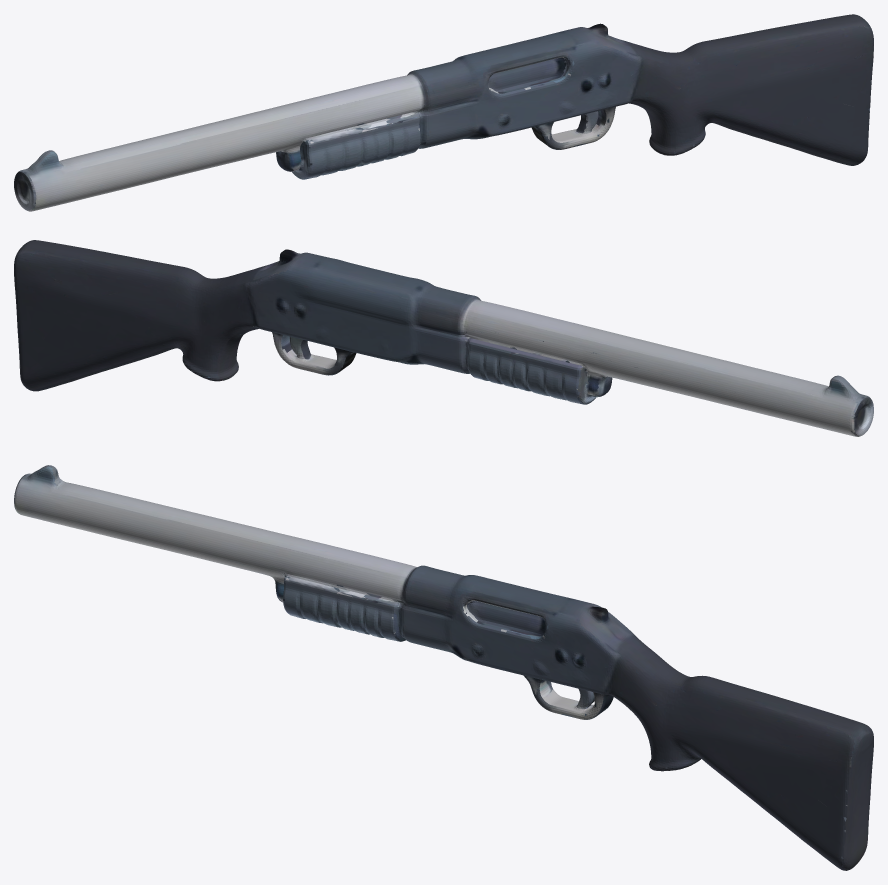
Rendered from shotgun.glb.
The picture shows the model from 3 angles, top to bottom: view 1: azimuth 30°, elevation 25°; view 2: azimuth 150°, elevation 25°; view 3: azimuth 330°, elevation 25°; orthographic projection.
Visible parts, largest first — view 1: figure; view 2: figure; view 3: figure.
Part boxes in pixels (bbox=[...]): figure: bbox=[14, 14, 873, 211]; figure: bbox=[14, 240, 873, 436]; figure: bbox=[14, 465, 873, 870].
Size of the model in its own units: 1.14 by 0.2699 by 0.0667.
Materials: 1 (1 with a texture image).
